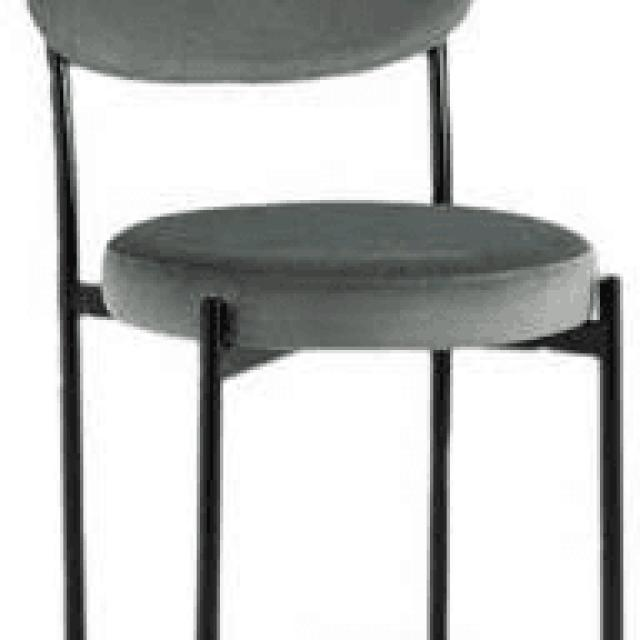chair: (14, 0, 636, 640), (27, 0, 598, 351)
